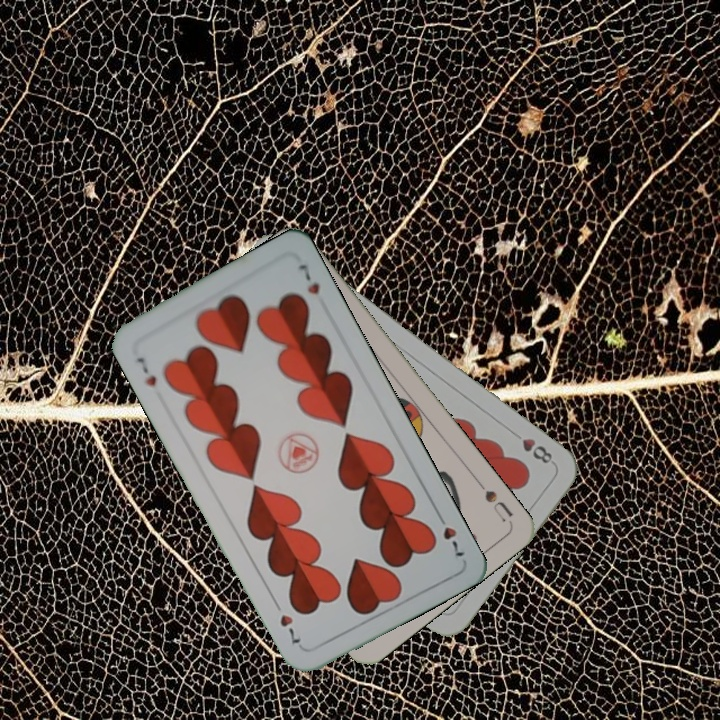H7: (432, 508, 468, 562), (132, 352, 159, 389)
H8: (507, 427, 555, 467)
SU: (472, 475, 515, 526)
